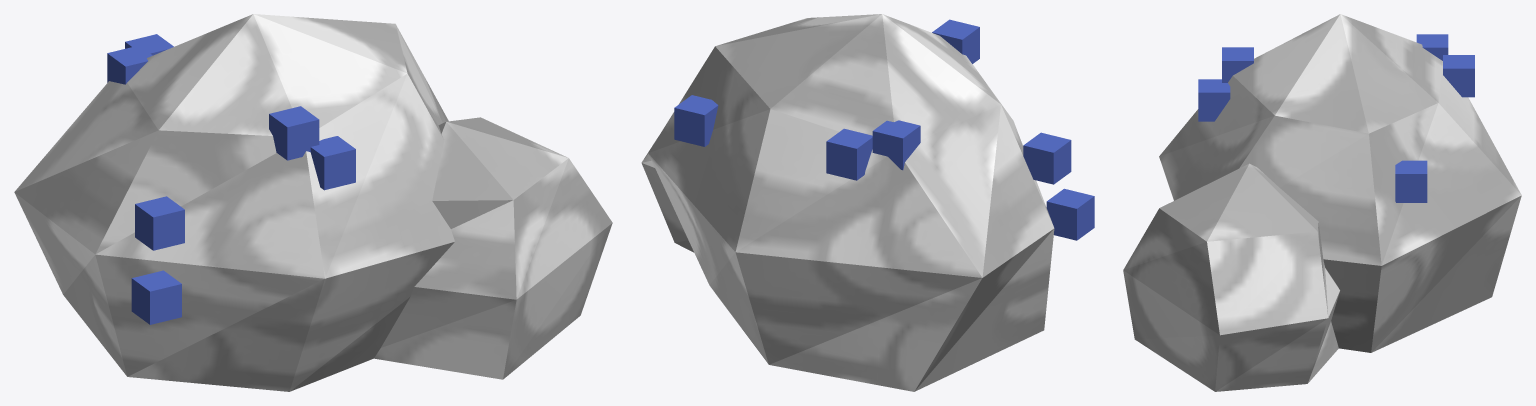
The model's file is berry_bush_2.obj.
3 views of the same model, side by side, from view 1: azimuth 30°, elevation 25°; view 2: azimuth 150°, elevation 25°; view 3: azimuth 270°, elevation 25° (orthographic). The views are drawn at different scales.
Visible parts, largest first — view 1: berry_bush_2; view 2: berry_bush_2; view 3: berry_bush_2.
Part boxes in pixels (left/top/right/bottom): berry_bush_2: left=14, top=14, right=612, bottom=391; berry_bush_2: left=641, top=14, right=1094, bottom=391; berry_bush_2: left=1123, top=14, right=1521, bottom=391.
Size of the model in its own units: 0.6529 by 0.42 by 0.5622.
